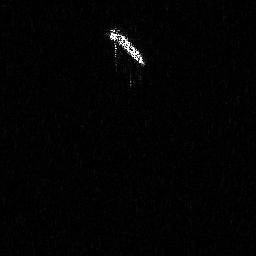ship: (104, 24, 147, 88)
